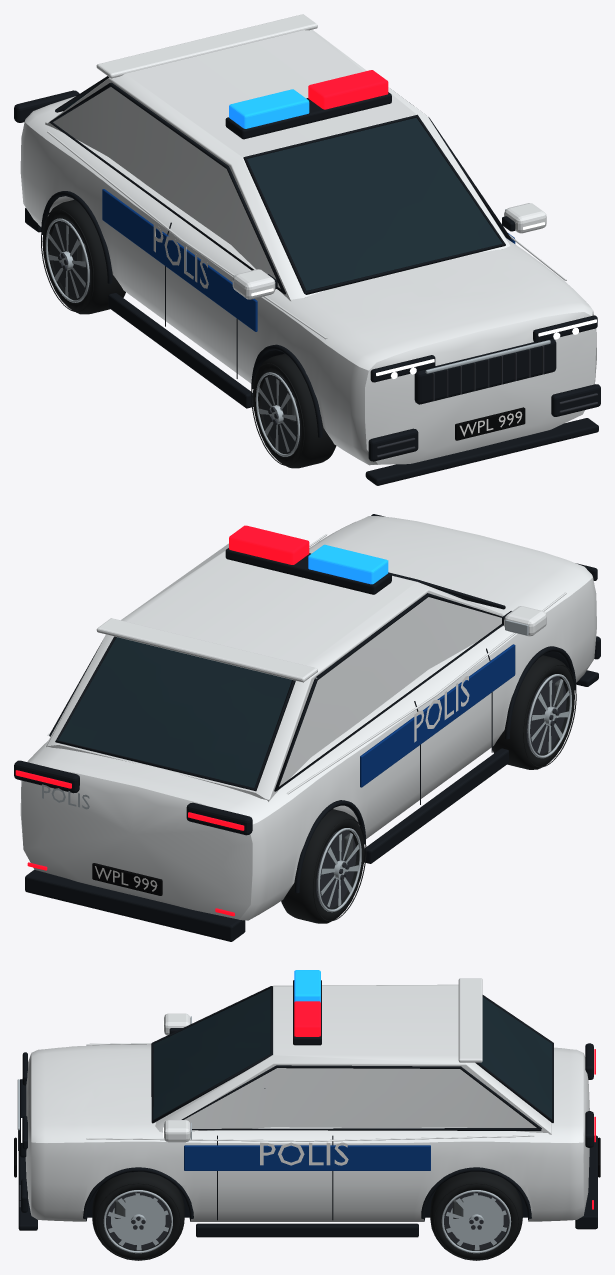
Rendered from police.glb.
The picture shows the model from 3 angles, top to bottom: view 1: azimuth 30°, elevation 25°; view 2: azimuth 150°, elevation 25°; view 3: azimuth 270°, elevation 25°; orthographic projection. The views are drawn at different scales.
Parts seen in each view (by area): view 1: body__Automotive clearcoat, body__Solar glass, body__Satin black trim, body__Police blue, wheel_FL.001__Tyre rubber, wheel_RL.001__Tyre rubber, body__Red LED optics, body__Police blue LED, wheel_RL.001__Graphite alloy, wheel_FL.001__Graphite alloy, wheel_FL.001__Machined aluminium, wheel_RL.001__Machined aluminium (+4 smaller); view 2: body__Automotive clearcoat, body__Solar glass, body__Satin black trim, body__Police blue, wheel_RL.001__Tyre rubber, wheel_FL.001__Tyre rubber, body__Red LED optics, body__Police blue LED, wheel_RL.001__Graphite alloy, wheel_FL.001__Graphite alloy, wheel_RL.001__Machined aluminium, wheel_FL.001__Machined aluminium (+3 smaller); view 3: body__Automotive clearcoat, body__Solar glass, body__Satin black trim, body__Police blue, wheel_FR.001__Tyre rubber, wheel_RR.001__Tyre rubber, wheel_FR.001__Machined aluminium, wheel_RR.001__Machined aluminium, body__Red LED optics, body__Police blue LED, body__White lettering, wheel_RR.001__Graphite alloy (+1 smaller).
Boxes of the visible parts, <box> form: body__Automotive clearcoat: <box>20,14,596,465</box>; body__Solar glass: <box>64,92,504,292</box>; body__Satin black trim: <box>14,76,600,485</box>; body__Police blue: <box>102,189,515,331</box>; wheel_FL.001__Tyre rubber: <box>251,353,336,468</box>; wheel_RL.001__Tyre rubber: <box>41,199,125,314</box>; body__Red LED optics: <box>308,70,388,109</box>; body__Police blue LED: <box>229,89,309,128</box>; wheel_RL.001__Graphite alloy: <box>51,221,90,299</box>; wheel_FL.001__Graphite alloy: <box>261,374,301,453</box>; wheel_FL.001__Machined aluminium: <box>255,372,299,456</box>; wheel_RL.001__Machined aluminium: <box>45,218,89,302</box>; body__Automotive clearcoat: <box>20,516,596,920</box>; body__Solar glass: <box>58,590,461,787</box>; body__Satin black trim: <box>14,514,600,941</box>; body__Police blue: <box>360,644,515,787</box>; wheel_RL.001__Tyre rubber: <box>281,809,366,923</box>; wheel_FL.001__Tyre rubber: <box>492,655,576,769</box>; body__Red LED optics: <box>15,525,309,916</box>; body__Police blue LED: <box>308,544,388,584</box>; wheel_RL.001__Graphite alloy: <box>316,829,356,908</box>; wheel_FL.001__Graphite alloy: <box>526,676,566,754</box>; wheel_RL.001__Machined aluminium: <box>317,828,361,912</box>; wheel_FL.001__Machined aluminium: <box>527,674,571,758</box>; body__Automotive clearcoat: <box>25,978,589,1221</box>; body__Solar glass: <box>153,988,552,1119</box>; body__Satin black trim: <box>18,980,597,1237</box>; body__Police blue: <box>184,1145,430,1170</box>; wheel_FR.001__Tyre rubber: <box>92,1171,184,1260</box>; wheel_RR.001__Tyre rubber: <box>430,1171,522,1260</box>; wheel_FR.001__Machined aluminium: <box>103,1190,172,1253</box>; wheel_RR.001__Machined aluminium: <box>441,1190,511,1253</box>; body__Red LED optics: <box>294,1001,595,1209</box>; body__Police blue LED: <box>294,970,320,1002</box>; body__White lettering: <box>260,1142,348,1165</box>; wheel_RR.001__Graphite alloy: <box>444,1192,509,1249</box>.
Size of the model in its own units: 2.21 by 1.85 by 4.64.
